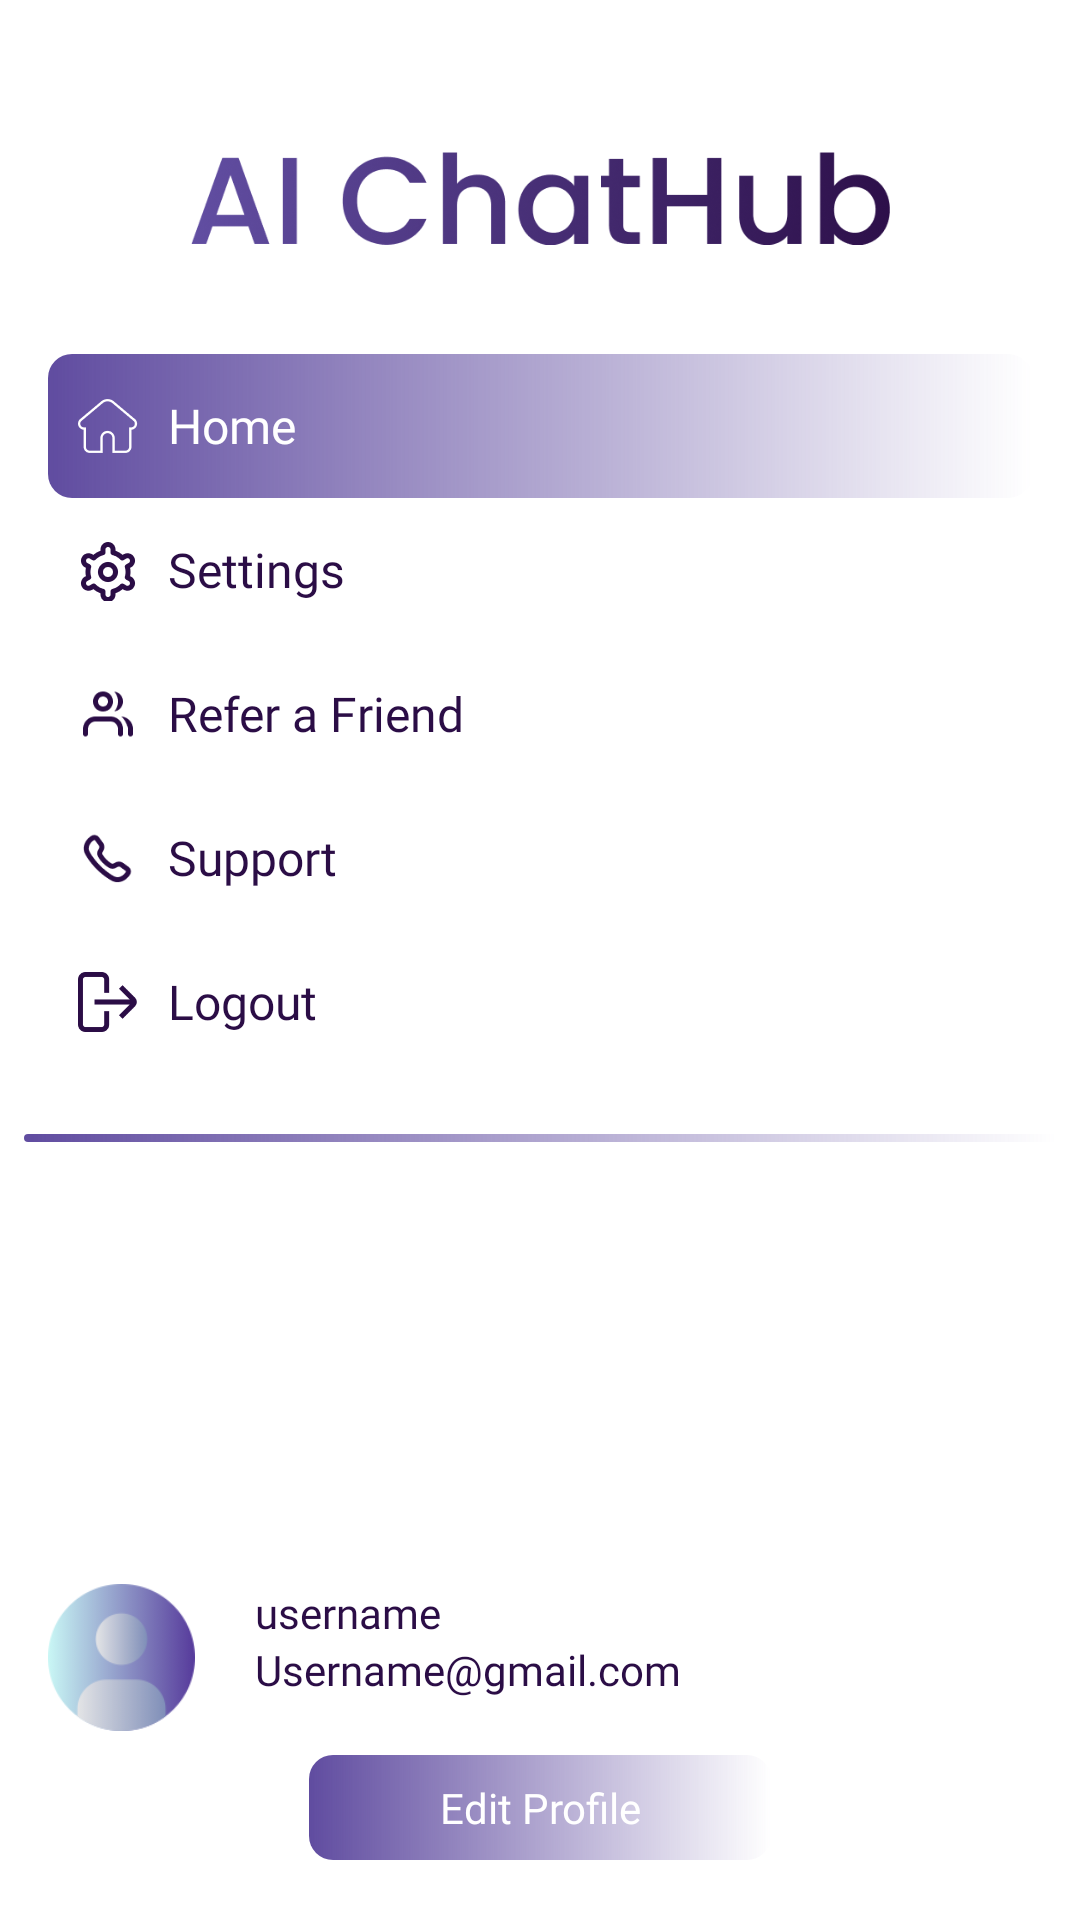

Icon click points for this 1080 × 1920 phone screenshot, format [x,y]:
phone: [107,858]
